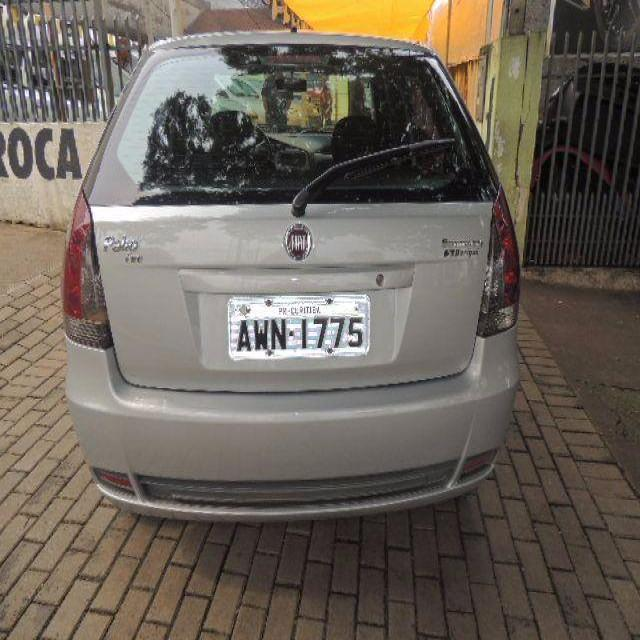Placa: (226, 292, 372, 363)
